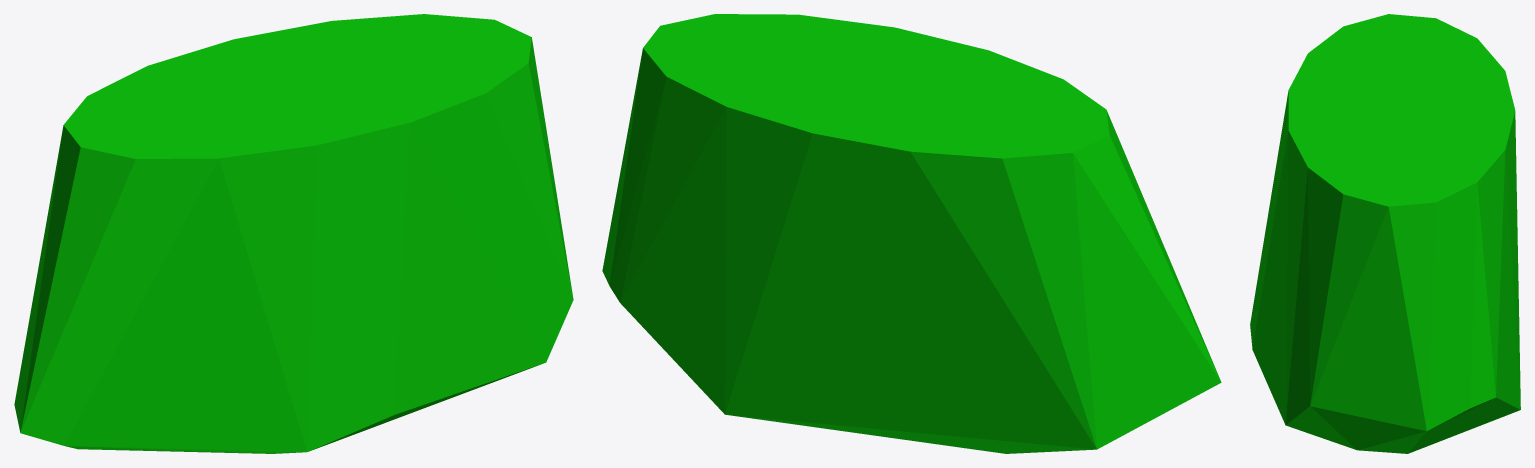
The model's file is talos_rleg_rom_reduced.dae.
3 renders of one model, left to right at view 1: azimuth 30°, elevation 25°; view 2: azimuth 150°, elevation 25°; view 3: azimuth 270°, elevation 25°, orthographic. The views are drawn at different scales.
Visible parts, largest first — view 1: Circle; view 2: Circle; view 3: Circle.
Boxes of the visible parts, left/top/right/bottom form: Circle: left=14, top=14, right=573, bottom=453; Circle: left=602, top=14, right=1221, bottom=453; Circle: left=1250, top=14, right=1520, bottom=453.
Size of the model in its own units: 0.7587 by 0.3543 by 0.4192.
